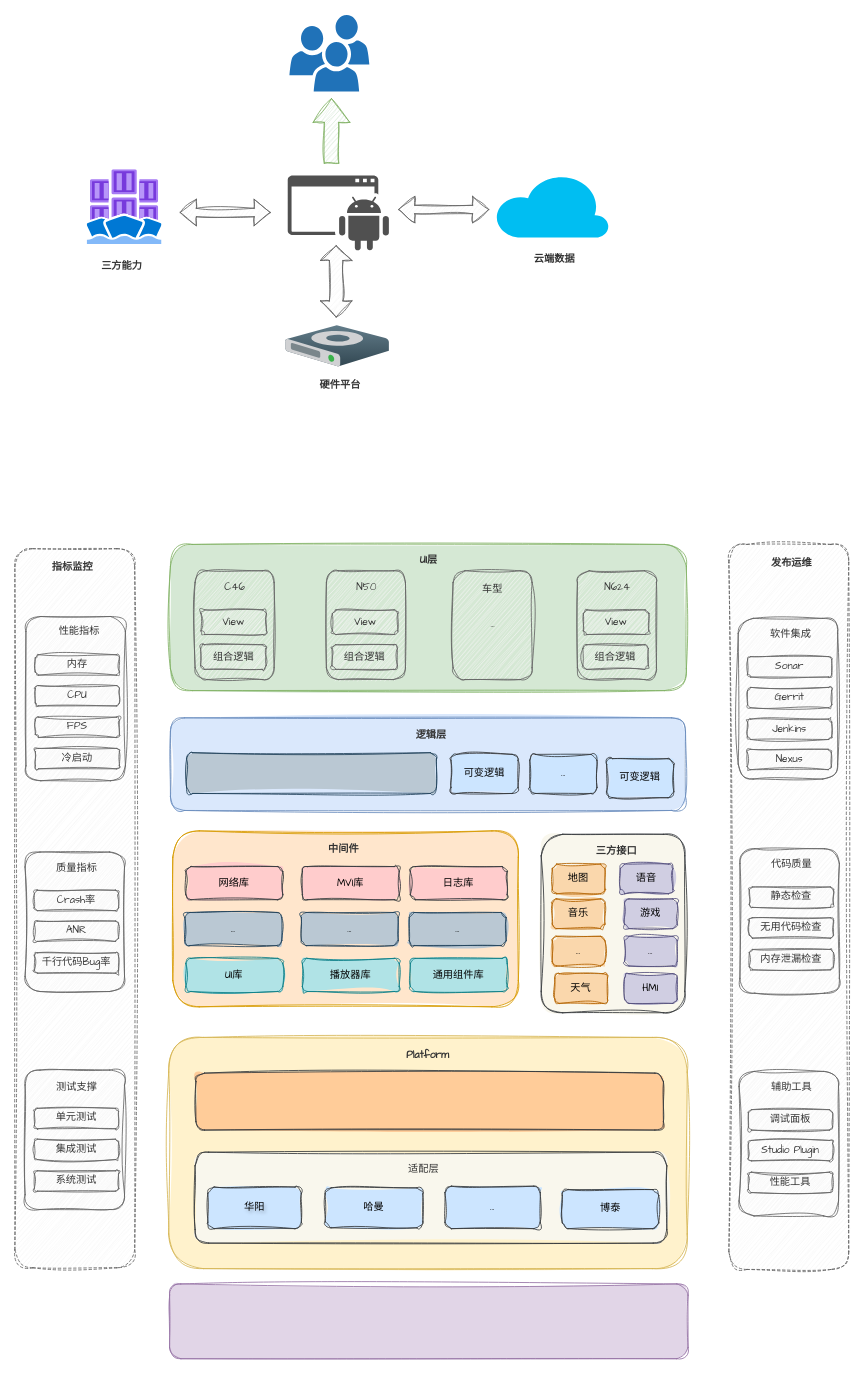
This 864x1374 diagram has some shape labels left out. The shapes that lost their labels are listed below. From the top down, each one's centre as x and y in pixels, then its label:
At pixel 311 772: "固定逻辑".
At pixel 429 1101: "接口层".
At pixel 428 1321: "Android OS".
